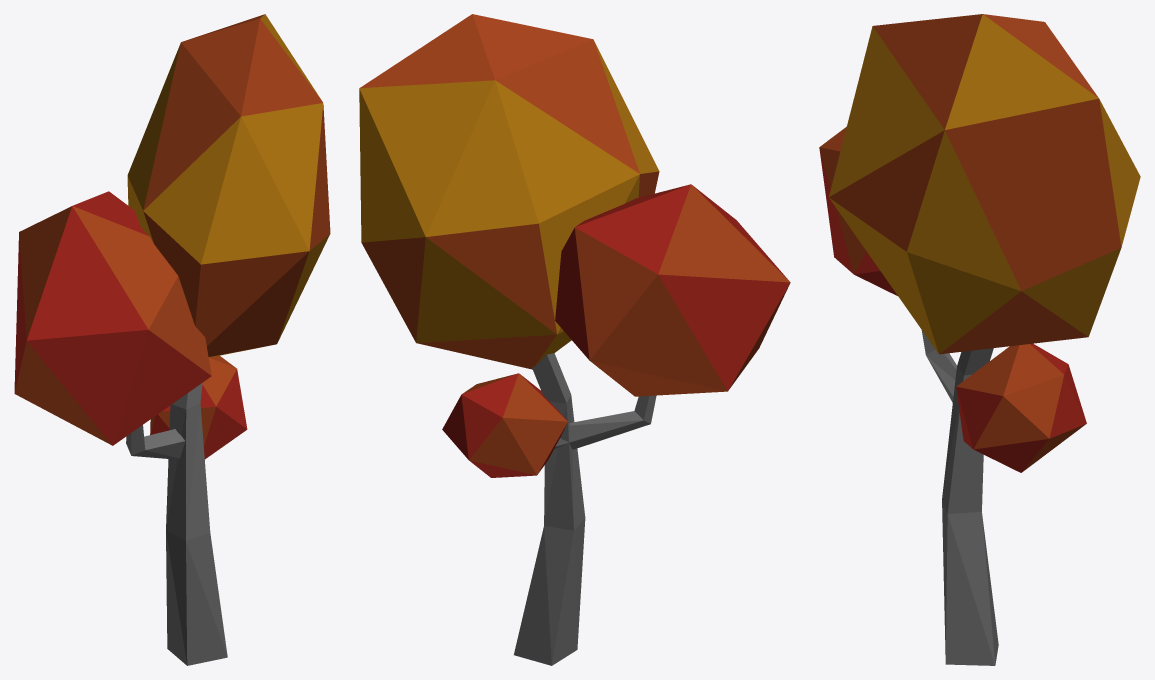
The model's file is Tree1_M2_7_big.fbx.
3 renders of one model, left to right at view 1: azimuth 30°, elevation 25°; view 2: azimuth 150°, elevation 25°; view 3: azimuth 270°, elevation 25°, orthographic. The views are drawn at different scales.
Visible parts, largest first — view 1: Tree1_M2_7_big; view 2: Tree1_M2_7_big; view 3: Tree1_M2_7_big.
Part boxes in pixels (bbox=[...]): Tree1_M2_7_big: bbox=[14, 14, 330, 665]; Tree1_M2_7_big: bbox=[359, 14, 790, 665]; Tree1_M2_7_big: bbox=[819, 14, 1140, 665].
Bounding box in the file's own units: 304 × 518 × 223.
